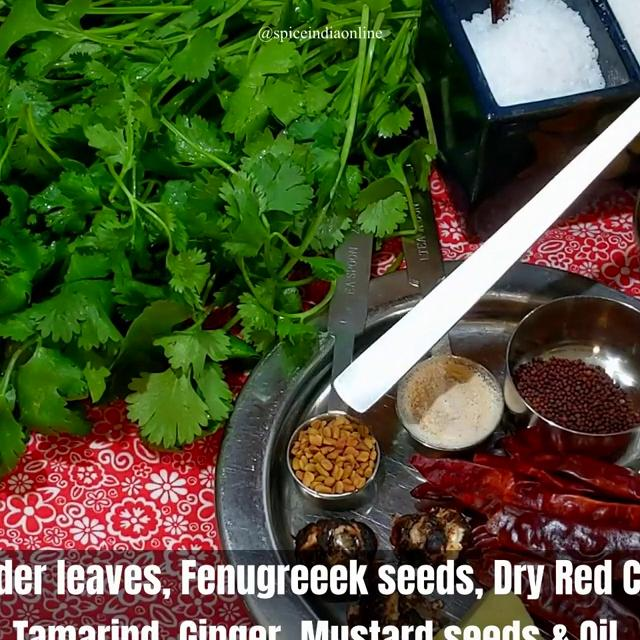cilantro: (0, 0, 370, 398)
